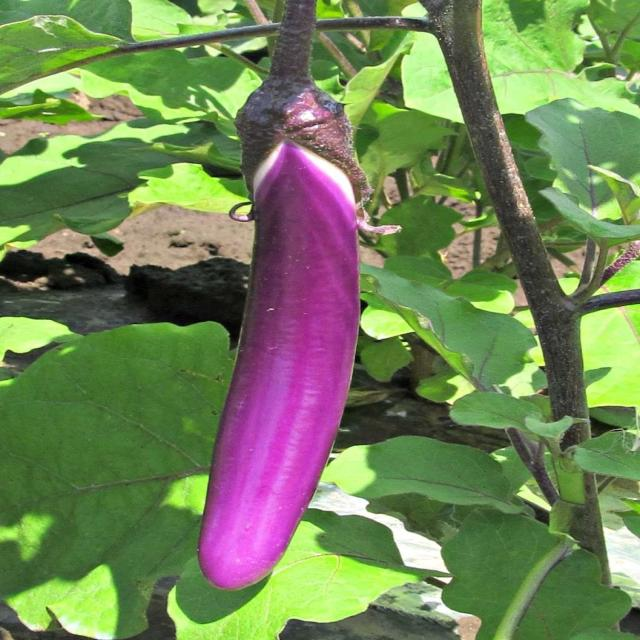Eggplant-r1Ob: (199, 140, 360, 590)
